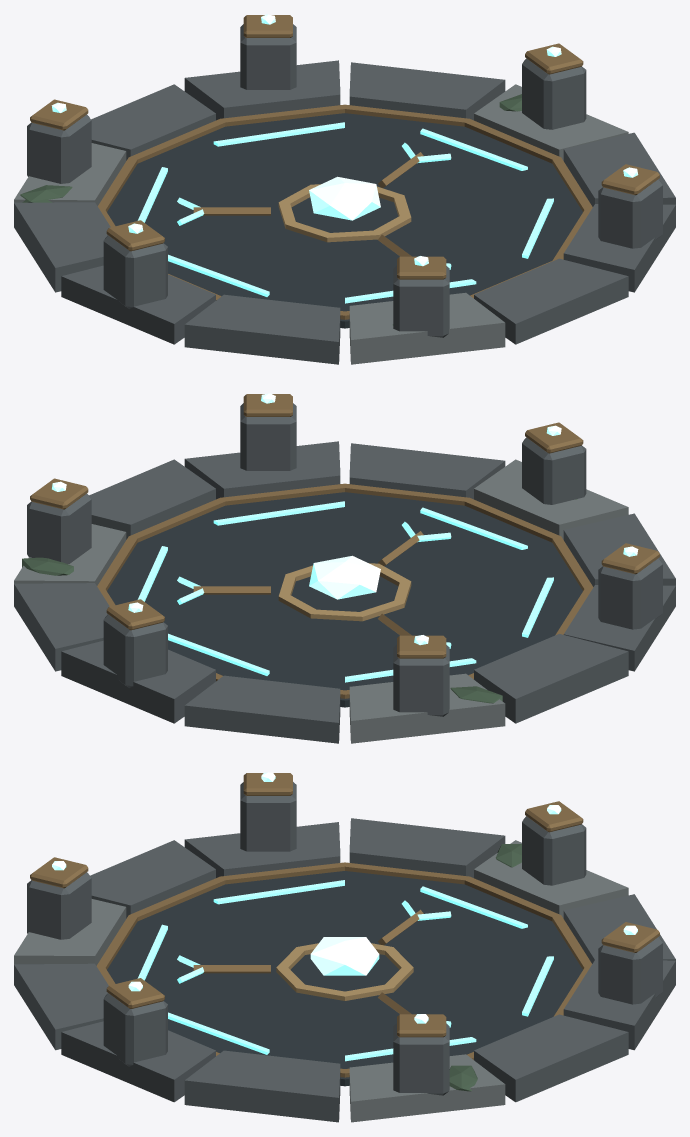
Rendered from warden_ritual_circle.glb.
3 renders of one model, top to bottom at view 1: azimuth 30°, elevation 25°; view 2: azimuth 150°, elevation 25°; view 3: azimuth 270°, elevation 25°, orthographic.
Visible parts, largest first — view 1: warden_ritual_circle; view 2: warden_ritual_circle; view 3: warden_ritual_circle.
Part boxes in pixels (box(x1,y1,x2,y2)): warden_ritual_circle: box(14, 14, 675, 364); warden_ritual_circle: box(14, 393, 675, 743); warden_ritual_circle: box(14, 772, 675, 1122).
Bounding box in the file's own units: 1.88 × 0.28 × 1.88.
